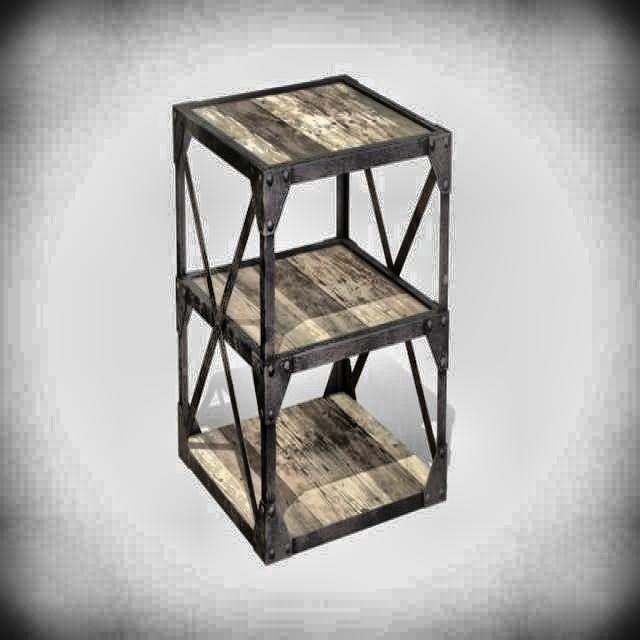mesa: (172, 70, 454, 567)
